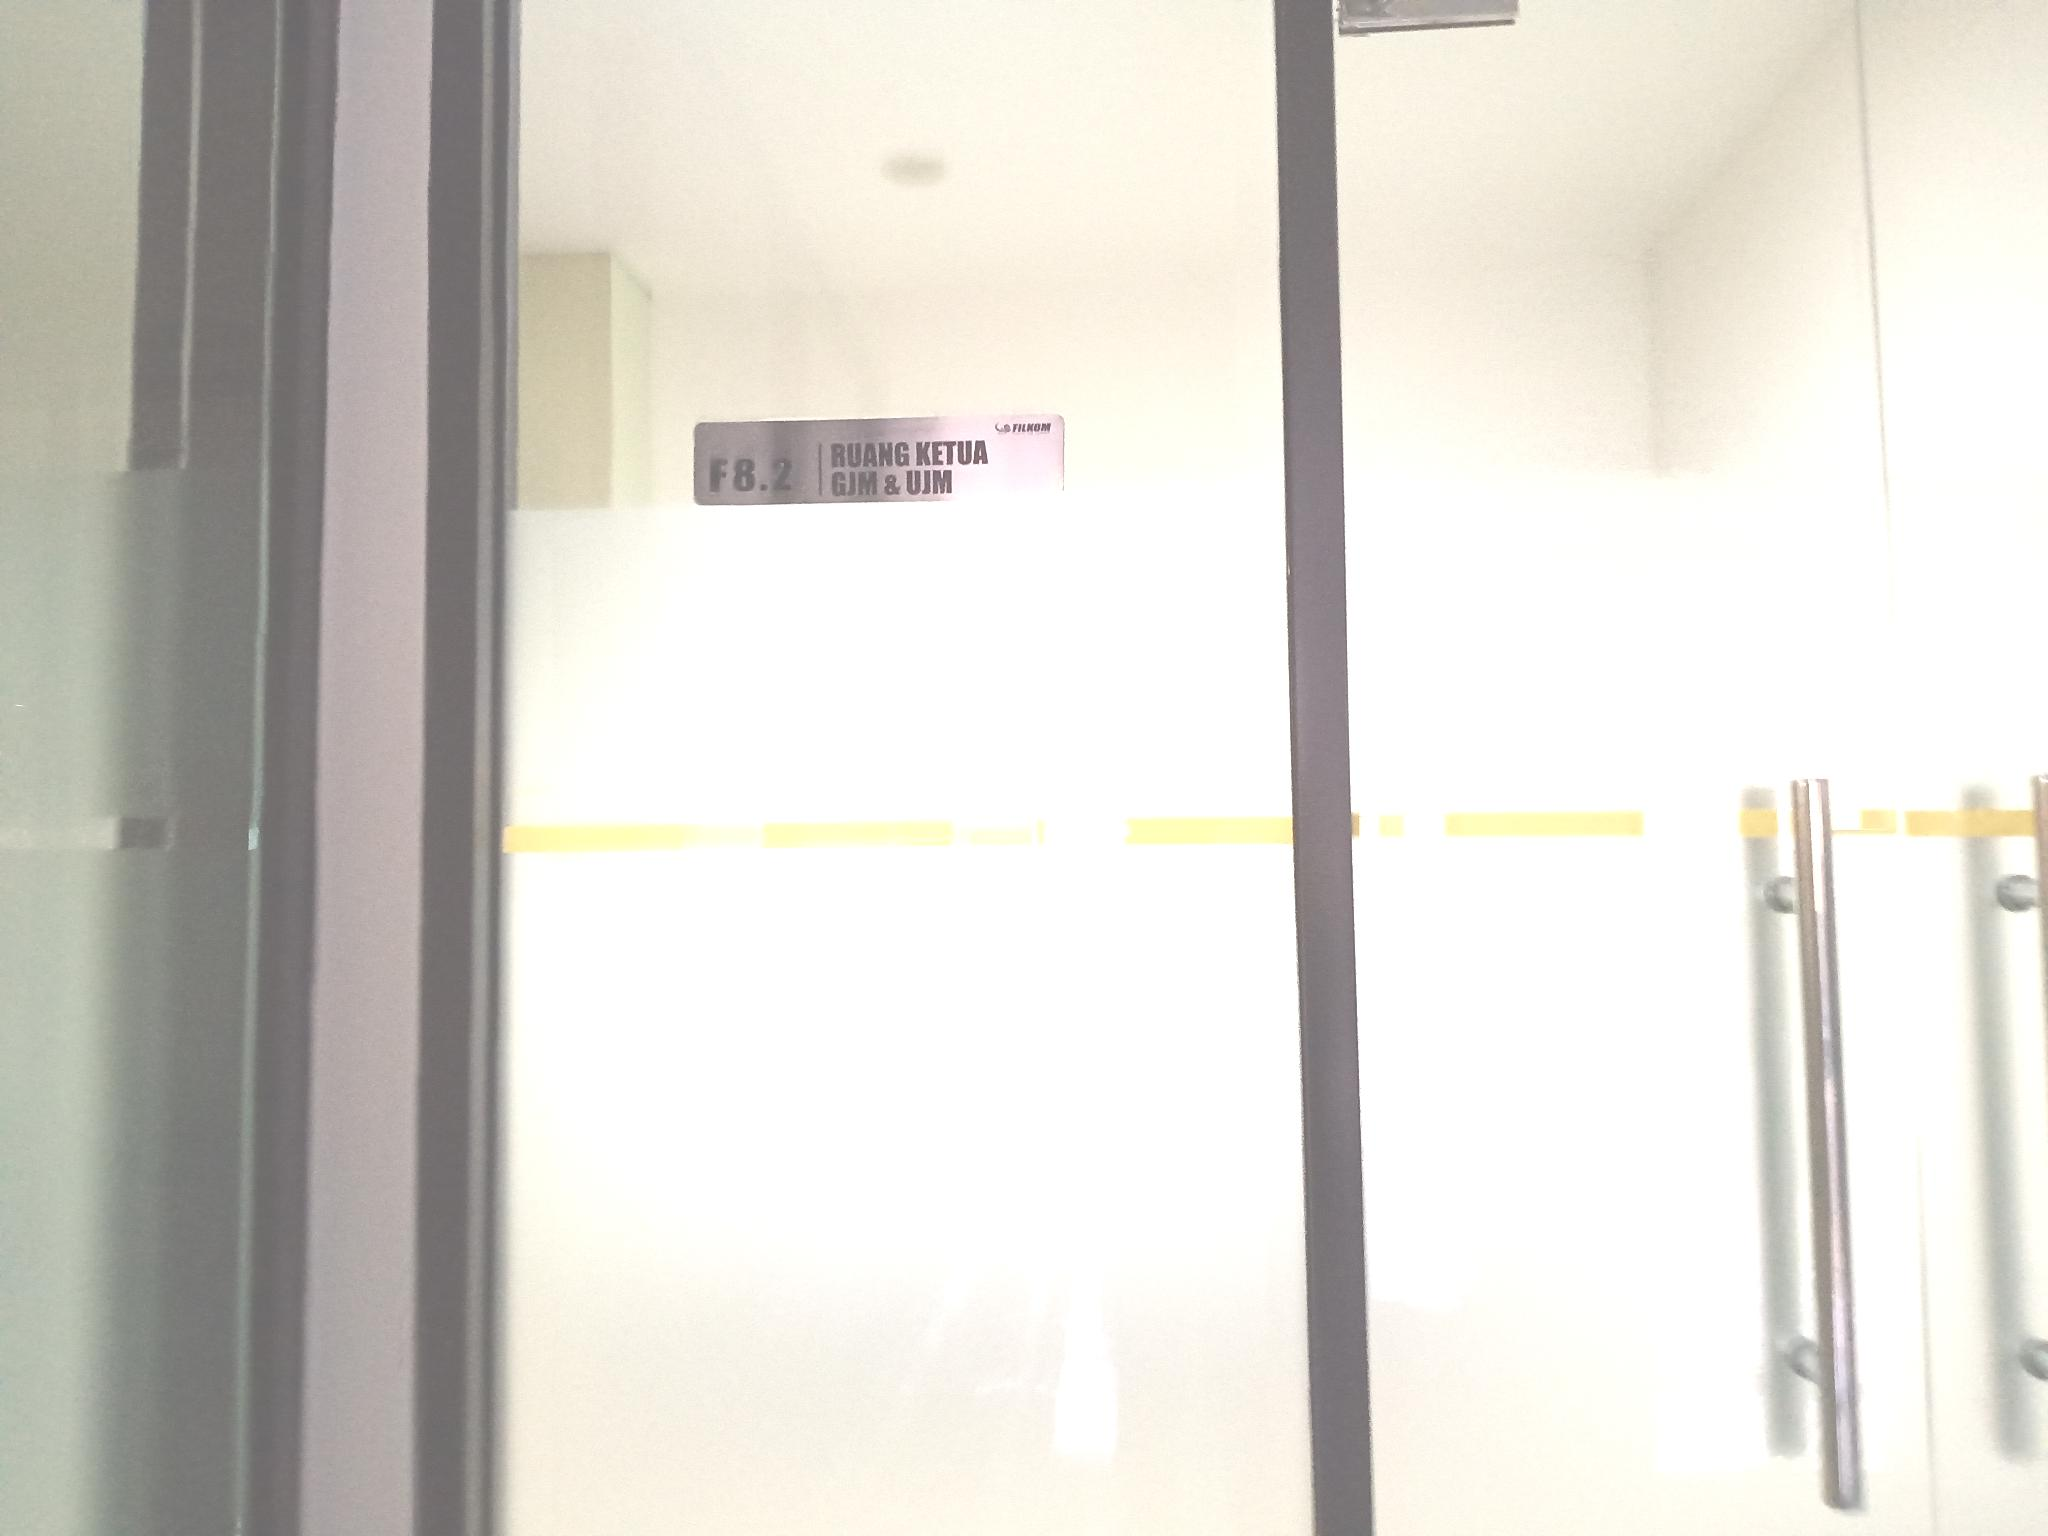plate: (692, 415, 1066, 508)
